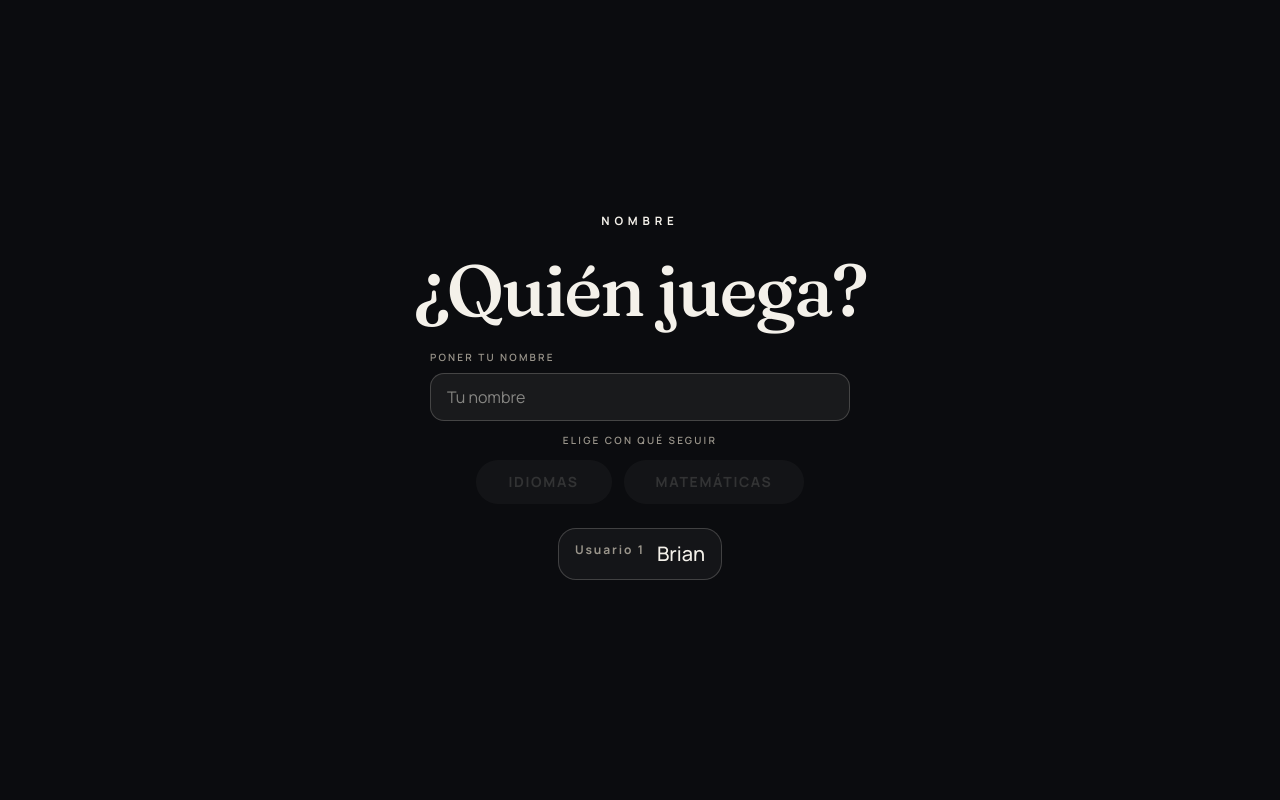
Test: App player gate › asks for a name even when Brian is already saved
Expected: the heading "¿Quién juega?" is shown, [414,254,866,326]
Expected: the field labelled "Poner tu nombre" is shown, [430,373,850,421]
Click the button "Usuario 1 Brian".
click(640, 554)  # box [558,528,722,580]
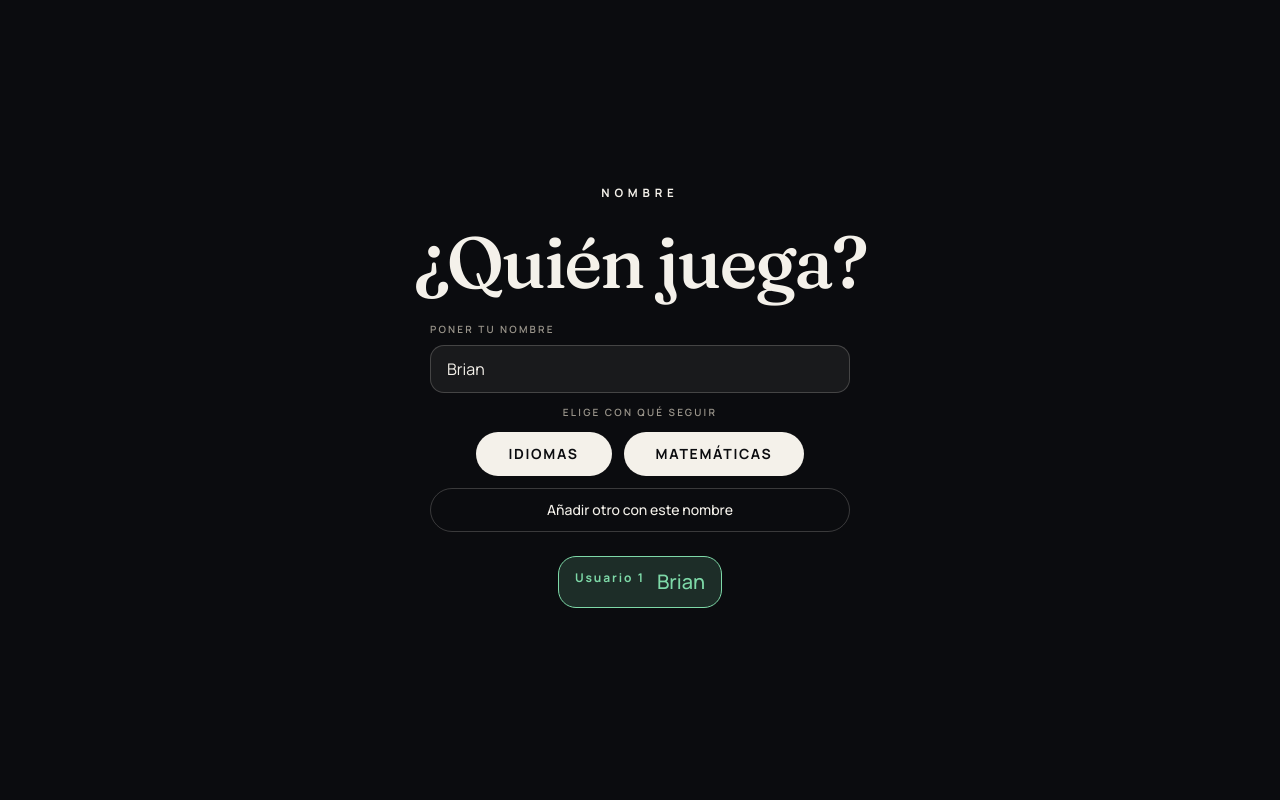
Click the button "Idiomas".
click(544, 454)  # box [476,432,612,476]
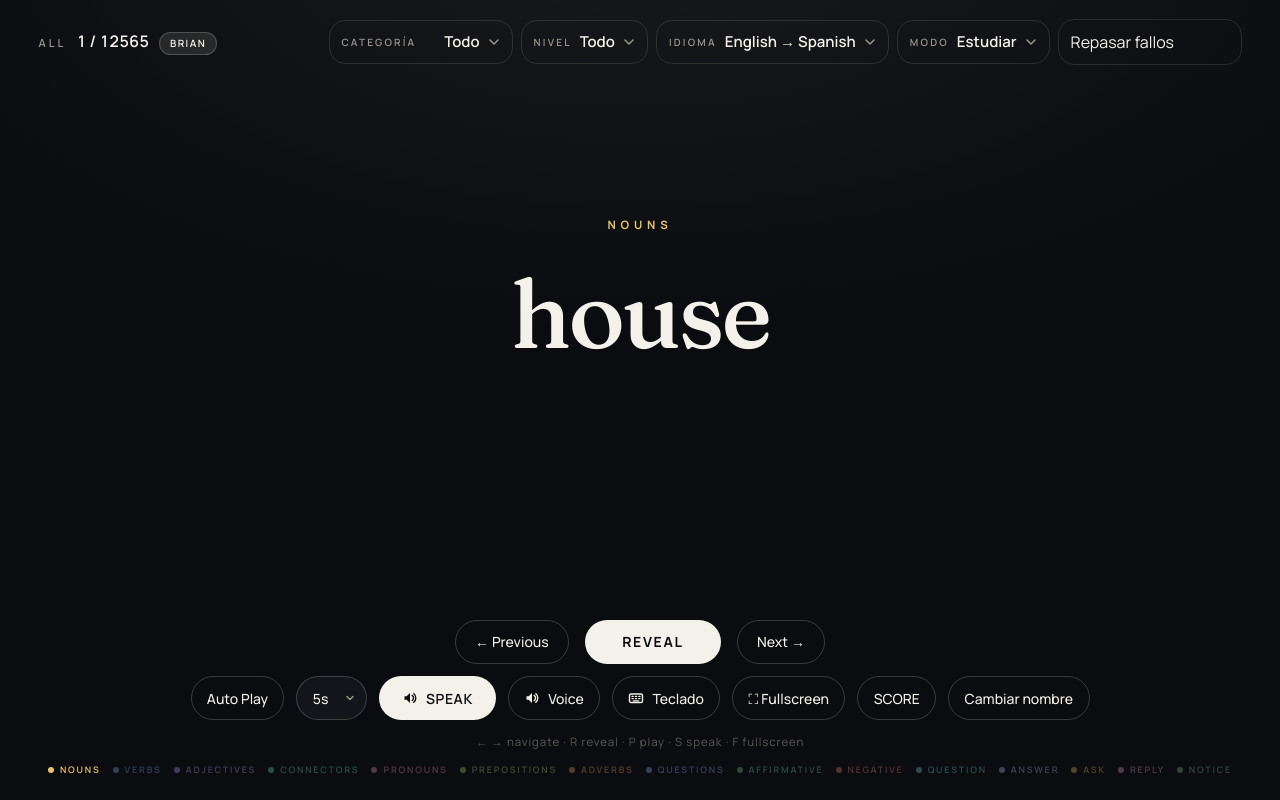
Expected: the text "Brian" is shown, [159,32,217,55]
Expected: the button "Cambiar nombre" is shown, [948,676,1090,720]
